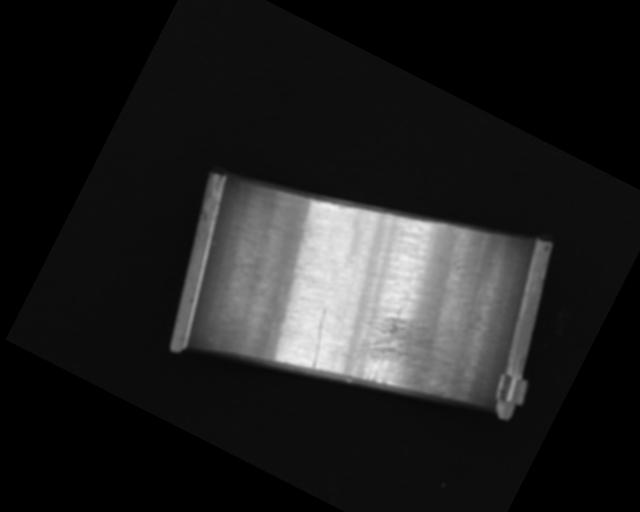nick: (206, 180, 280, 273), (297, 308, 340, 368)
scratch: (343, 298, 473, 421)
